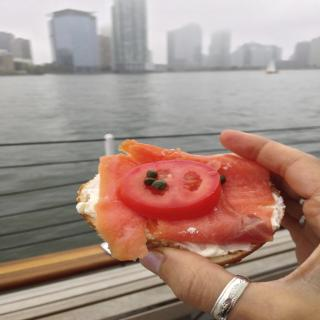tomato: (116, 158, 222, 220)
